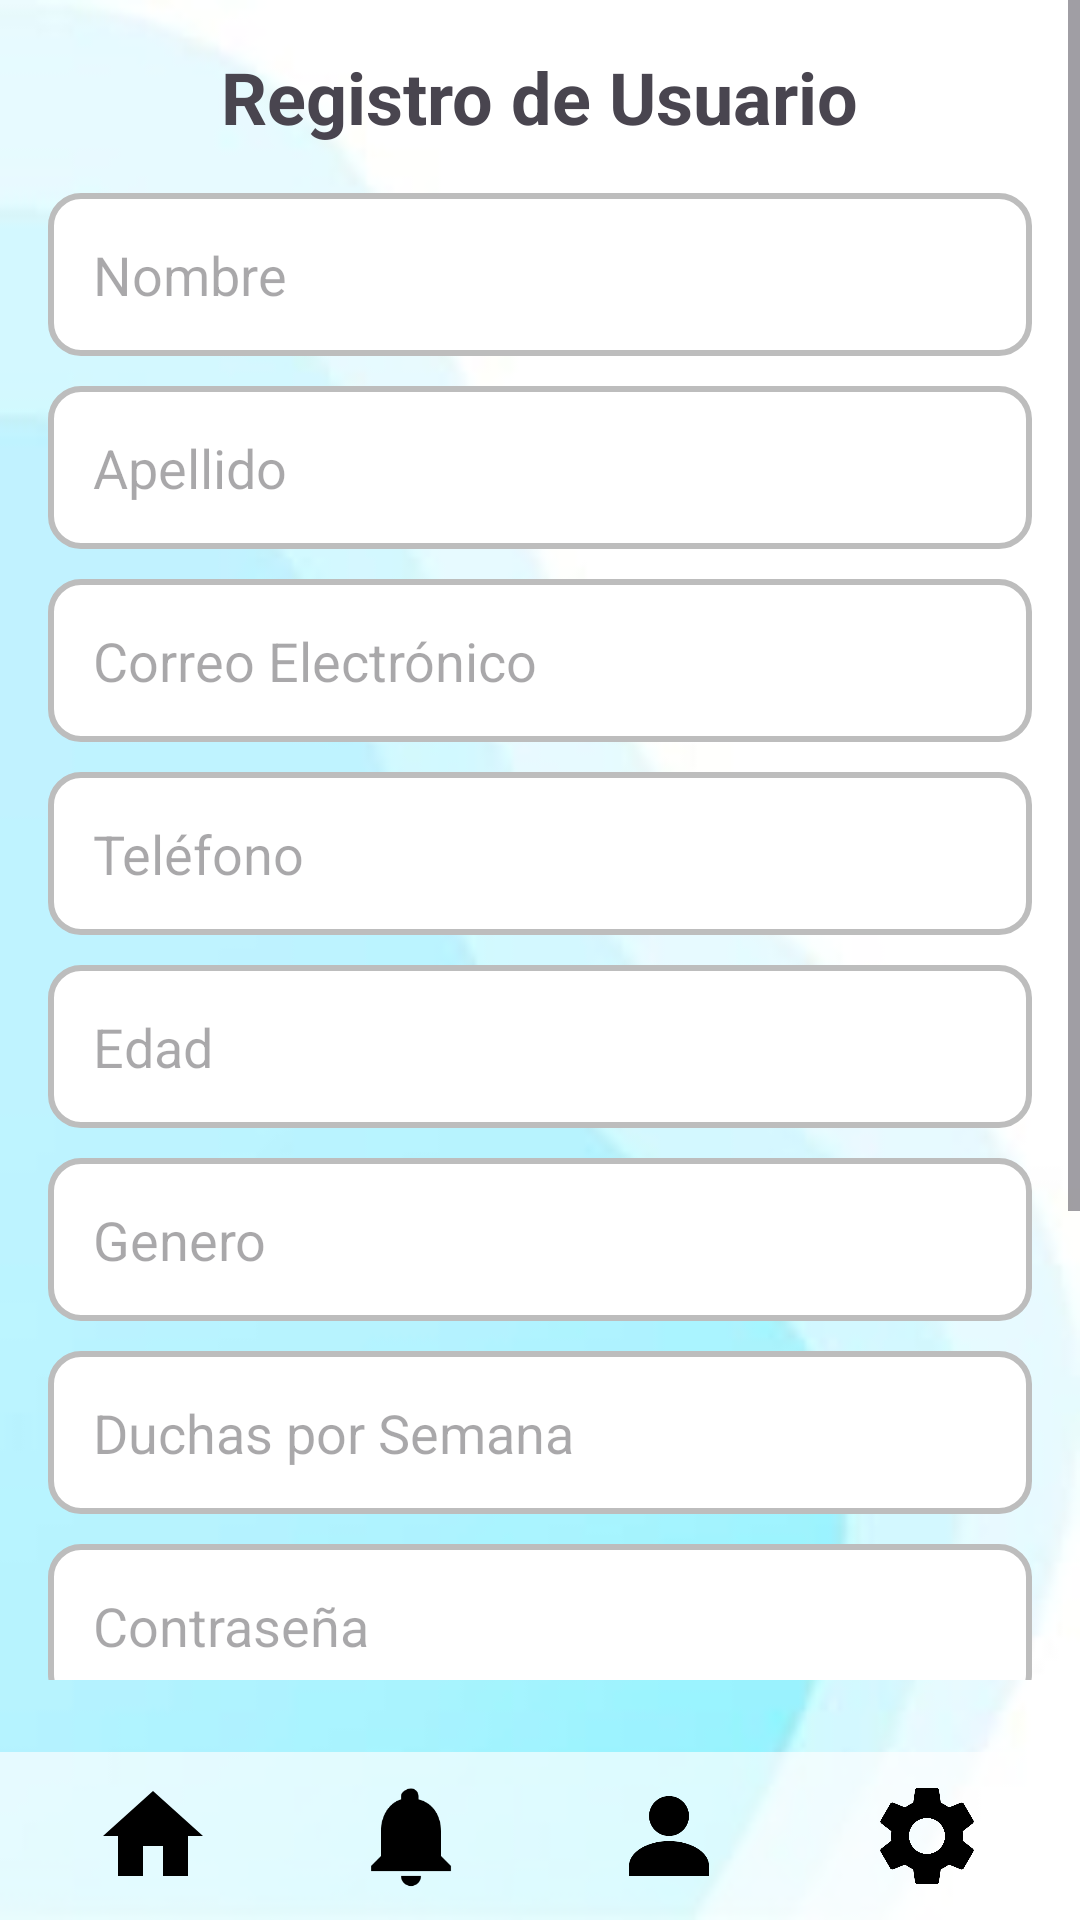

Screen size 1080w x 1920h. Icon name, then its box in pixels as (x1, y1, x2, y2):
bell: (371, 1788, 451, 1886)
home: (103, 1791, 203, 1876)
profile: (629, 1796, 709, 1876)
settings: (880, 1788, 974, 1884)
